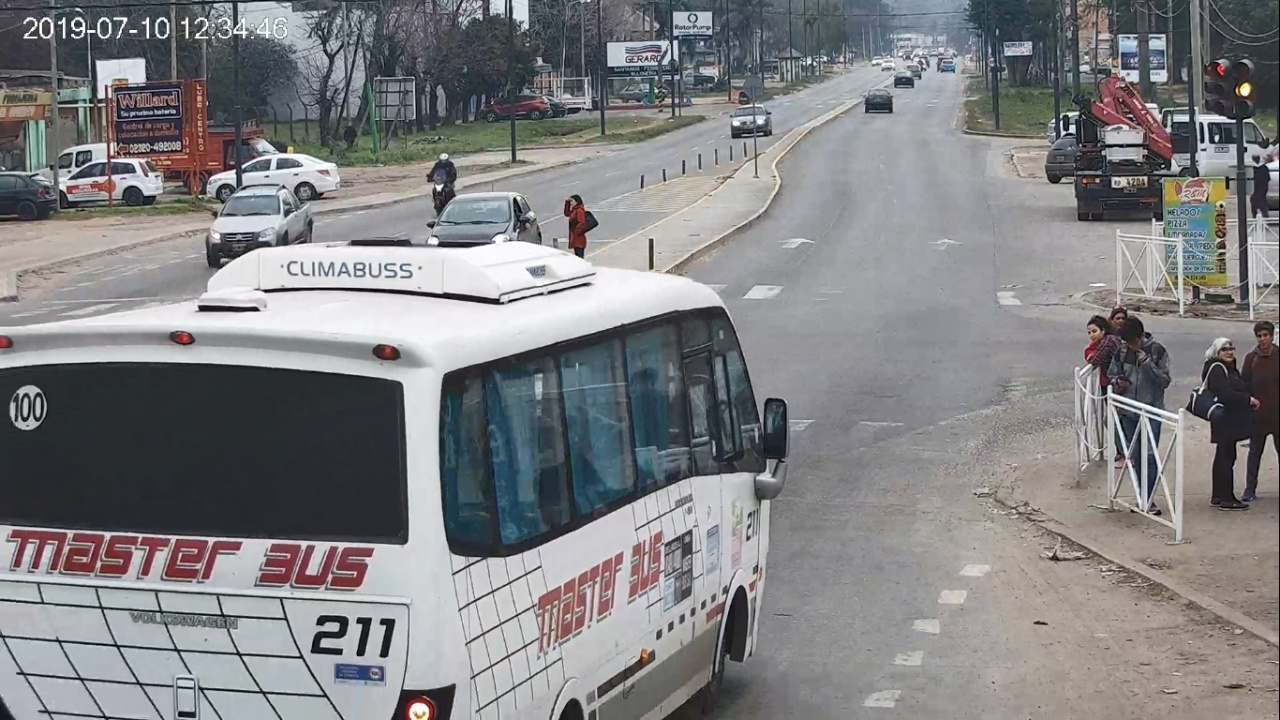bus: (1, 238, 791, 720)
traffic light: (1233, 58, 1255, 118)
